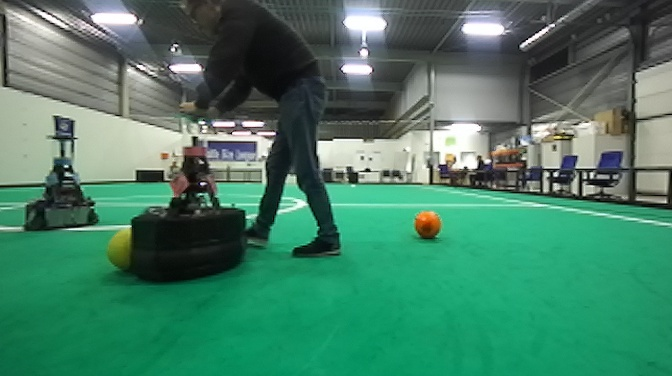ball: (102, 225, 133, 274), (410, 207, 445, 243)
human: (158, 1, 346, 263)
robot: (129, 109, 250, 286), (15, 111, 103, 237)
